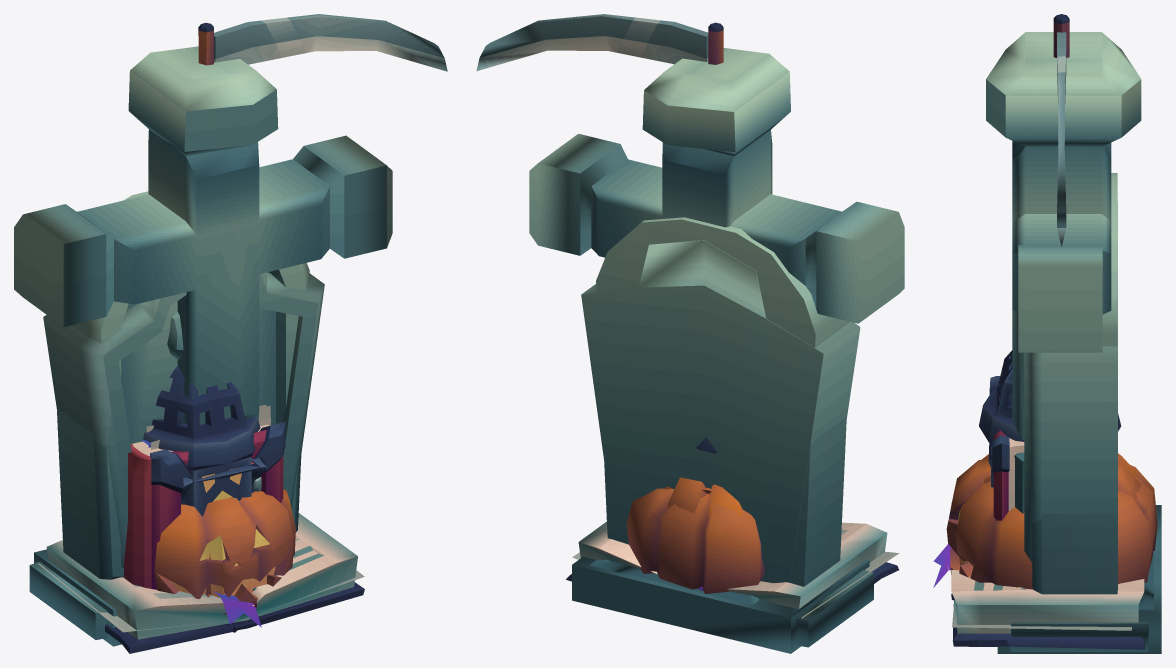
File: AllAssets.fbx
3 views of the same model, side by side, from view 1: azimuth 30°, elevation 25°; view 2: azimuth 150°, elevation 25°; view 3: azimuth 270°, elevation 25° (orthographic). The views are drawn at different scales.
Parts seen in each view (by area): view 1: pCube5, pCube1, pCube4, pPlane4, polySurface6, pCylinder2, polySurface4, pPlane11, pCube11; view 2: pCube4, pCube5, pCube1, polySurface6, polySurface4, pPlane4, pSphere2; view 3: pCube5, pCube4, pCube1, polySurface6, pPlane4, polySurface4, pCylinder2, pPlane11, pSphere2.
Boxes of the visible parts, bbox=[...] form: pCube5: bbox=[14, 46, 392, 591]; pCube1: bbox=[29, 191, 309, 639]; pCube4: bbox=[34, 272, 324, 646]; pPlane4: bbox=[38, 513, 364, 653]; polySurface6: bbox=[154, 489, 295, 614]; pCylinder2: bbox=[143, 366, 260, 516]; polySurface4: bbox=[198, 14, 447, 491]; pPlane11: bbox=[123, 405, 285, 589]; pCube11: bbox=[181, 458, 268, 504]; pCube4: bbox=[572, 240, 869, 653]; pCube5: bbox=[529, 48, 904, 604]; pCube1: bbox=[596, 217, 873, 647]; polySurface6: bbox=[626, 487, 764, 593]; polySurface4: bbox=[476, 14, 723, 71]; pPlane4: bbox=[566, 521, 899, 618]; pSphere2: bbox=[665, 477, 742, 518]; pCube5: bbox=[986, 32, 1153, 609]; pCube4: bbox=[997, 201, 1161, 653]; pCube1: bbox=[1010, 173, 1148, 651]; polySurface6: bbox=[946, 454, 1157, 589]; pPlane4: bbox=[933, 502, 1144, 649]; polySurface4: bbox=[1053, 14, 1069, 246]; pCylinder2: bbox=[979, 350, 1121, 487]; pPlane11: bbox=[989, 376, 1024, 520]; pSphere2: bbox=[983, 453, 1140, 502].
Size of the model in its own units: 5.1 by 6.93 by 2.35.
